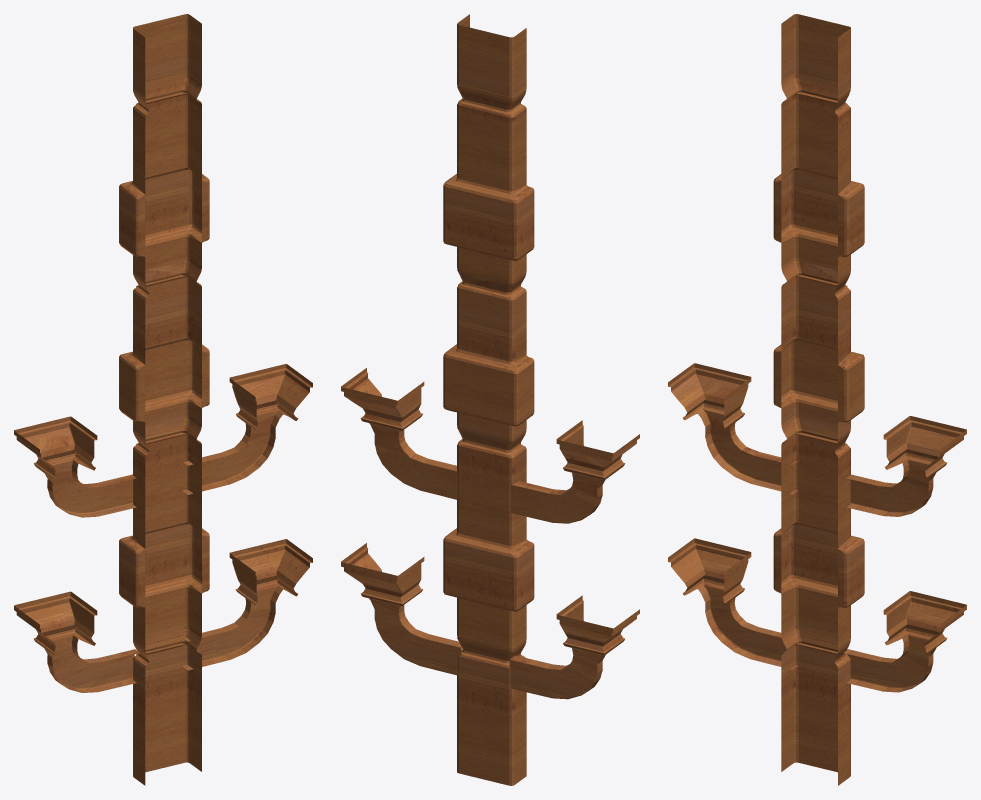
3 views of the same model, side by side, from view 1: azimuth 30°, elevation 25°; view 2: azimuth 150°, elevation 25°; view 3: azimuth 330°, elevation 25° (orthographic).
Visible parts, largest first — view 1: R1L2; view 2: R1L2; view 3: R1L2.
Part boxes in pixels (left/top/right/bottom): R1L2: left=14, top=14, right=312, bottom=785; R1L2: left=341, top=14, right=639, bottom=785; R1L2: left=668, top=14, right=966, bottom=785.
Bounding box in the file's own units: 19.33 × 50.66 × 3.24.
Materials: 1 (1 with a texture image).
